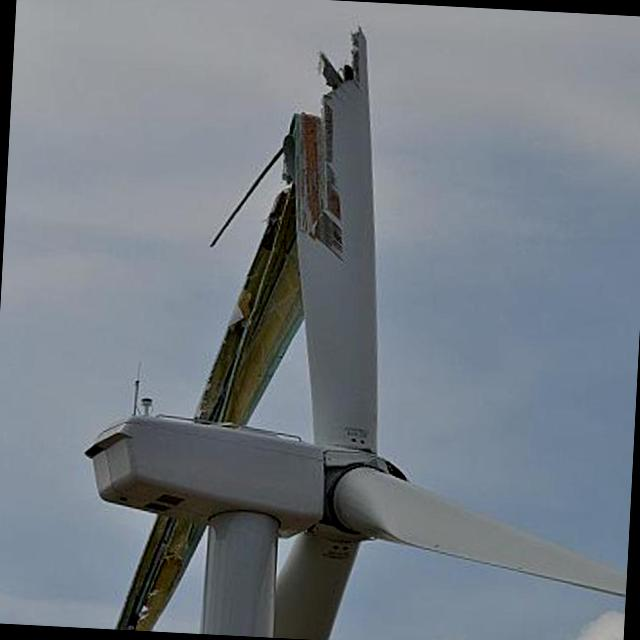crack: (188, 0, 405, 437)
